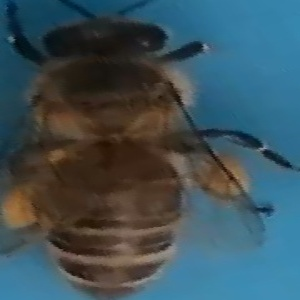bee: (3, 4, 290, 299)
